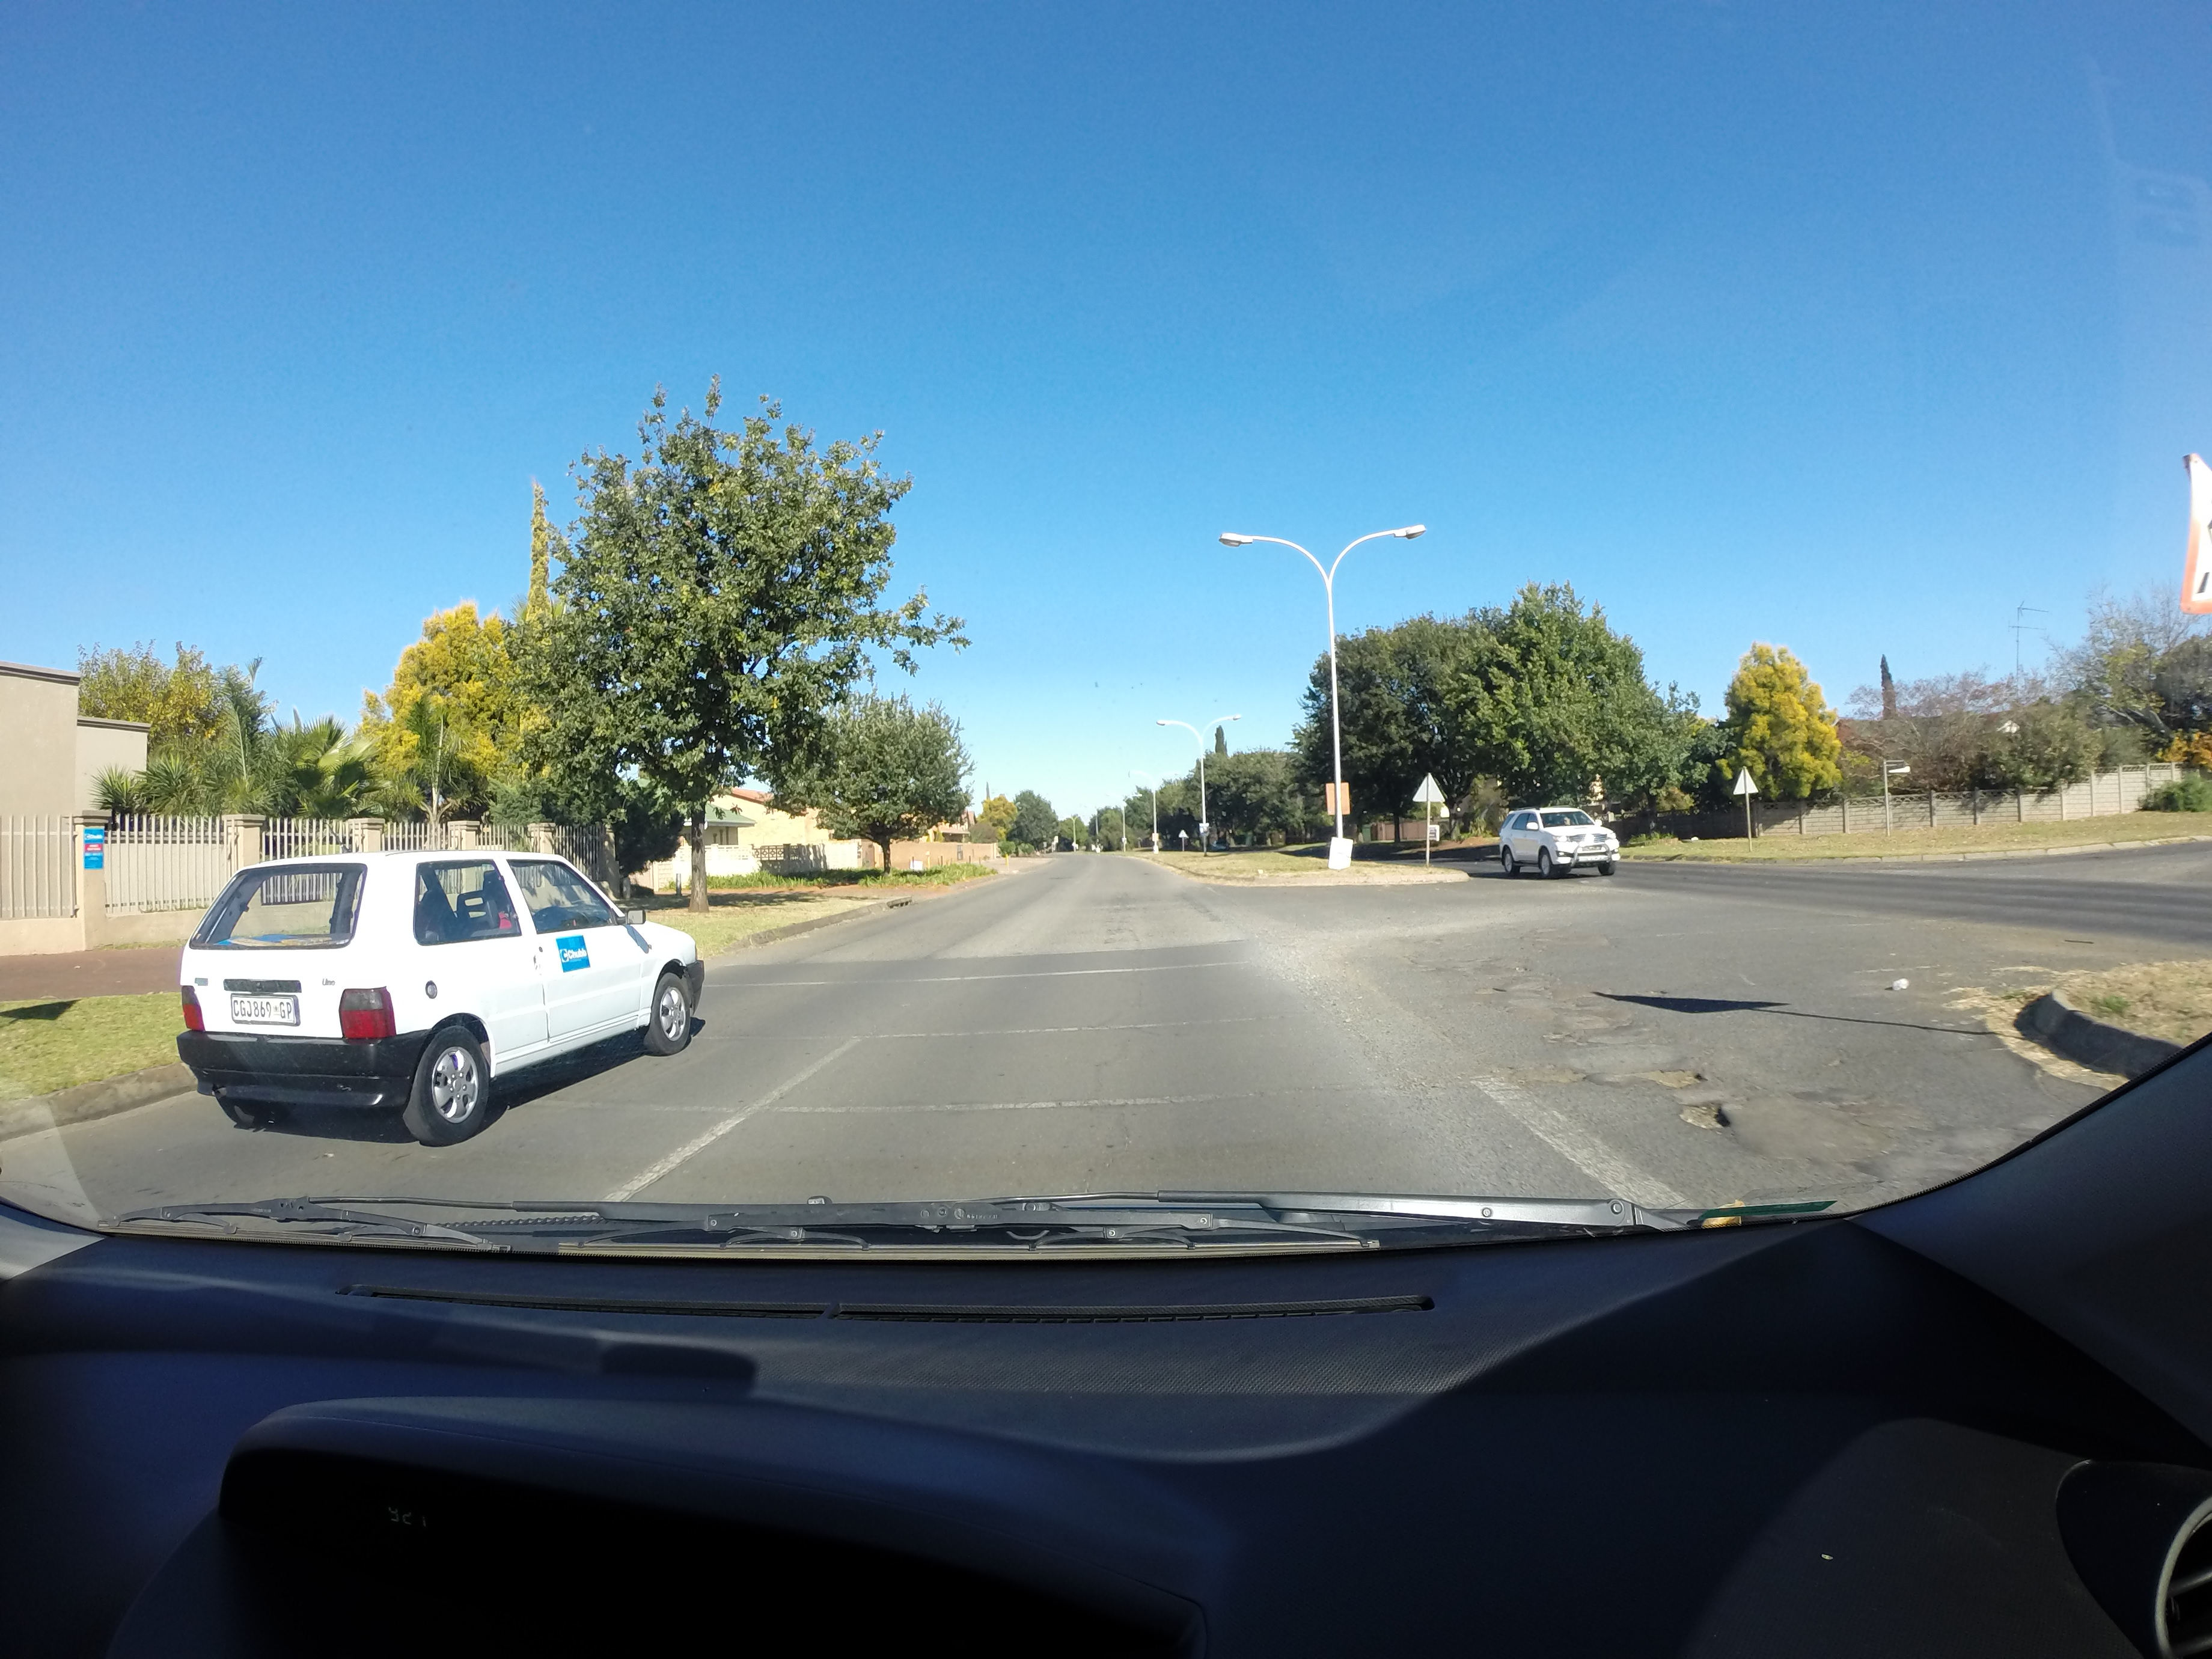pothole: (1629, 1058, 1733, 1152)
